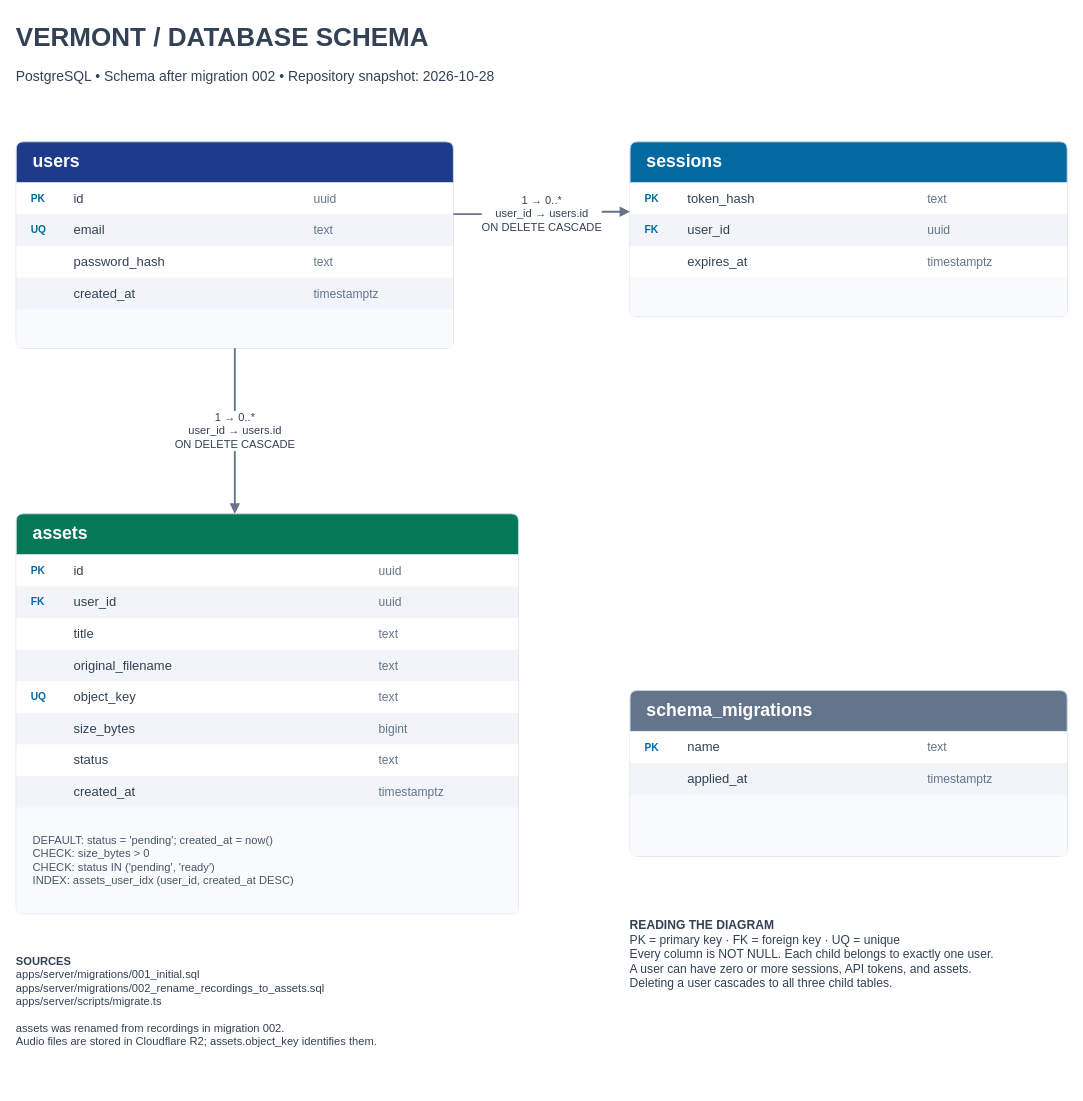
Image size: 1083x1101. Some labels were removed from this diagram. The centre of each missing label's shape, as x and y in pixels:
"DEFAULT: applied_at = now() Migration history; no foreign keys." belongs at point (848, 825).
"DEFAULT: created_at = now()" belongs at point (234, 328).
"INDEX: sessions_expiry_idx (expires_at)" belongs at point (848, 296).
